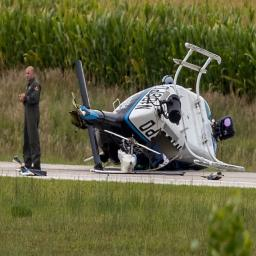helicopter: (68, 42, 251, 177)
